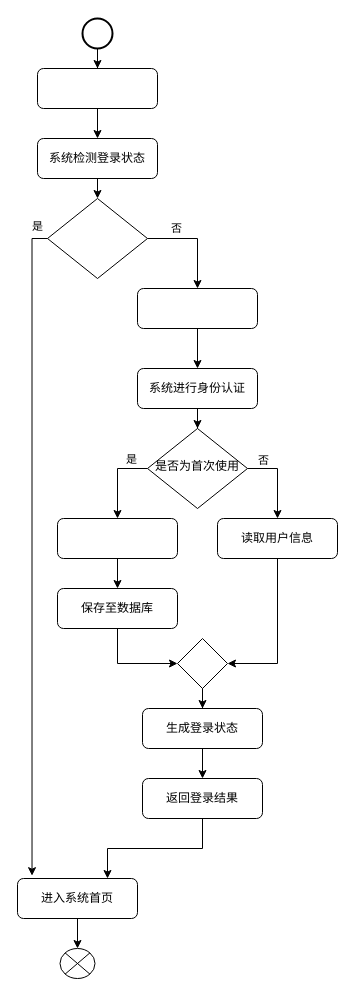
Image size: 355x996. Some labels were removed from this diagram. The centre of each missing label's shape, as x and y in pixels:
"创建用户信息" goes at (x=117, y=538).
"发起登录请求" goes at (x=197, y=308).
"是否已登录" goes at (x=97, y=238).
"用户打开小程序" goes at (x=97, y=88).
